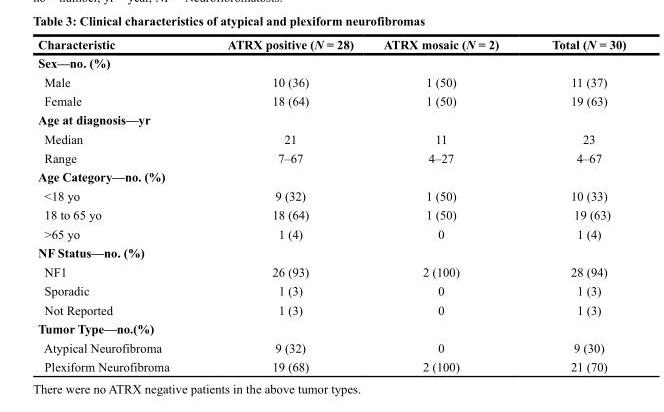table: (37, 36, 625, 373)
table column: (197, 36, 367, 373), (37, 36, 197, 373), (367, 36, 524, 373), (524, 36, 625, 373)
table column header: (37, 36, 625, 53)
table projected row header: (37, 53, 625, 72), (37, 109, 625, 128), (37, 166, 625, 185), (37, 242, 625, 261), (37, 319, 625, 337)
table row: (37, 128, 625, 148), (37, 299, 625, 319), (37, 53, 625, 72), (37, 72, 625, 91), (37, 109, 625, 128), (37, 166, 625, 185), (37, 185, 625, 204), (37, 204, 625, 223), (37, 223, 625, 242), (37, 242, 625, 261), (37, 261, 625, 280), (37, 280, 625, 299), (37, 337, 625, 356), (37, 91, 625, 109), (37, 148, 625, 166), (37, 319, 625, 337), (37, 36, 625, 53), (37, 356, 625, 373)
